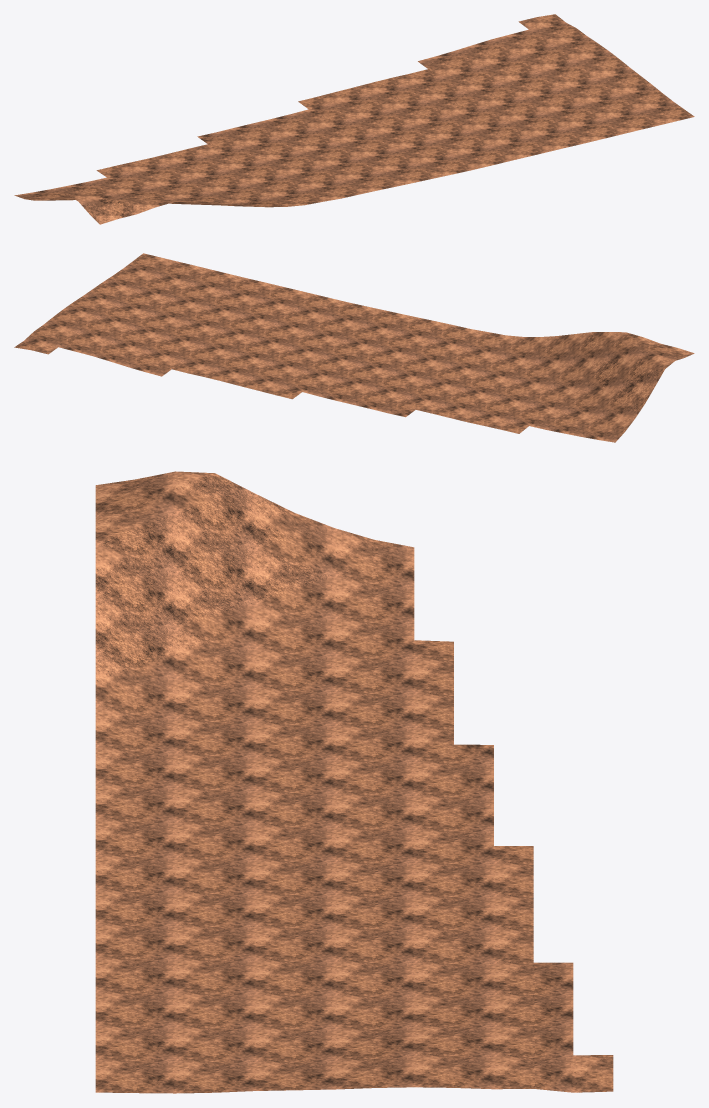
File: terrain_10_03.dae
3 renders of one model, top to bottom at view 1: azimuth 30°, elevation 25°; view 2: azimuth 150°, elevation 25°; view 3: azimuth 270°, elevation 25°, orthographic. The views are drawn at different scales.
Parts seen in each view (by area): view 1: terrain_10_03-node; view 2: terrain_10_03-node; view 3: terrain_10_03-node.
Part boxes in pixels (x1,y1,x2,y2): terrain_10_03-node: [14, 14, 694, 224]; terrain_10_03-node: [14, 253, 694, 442]; terrain_10_03-node: [95, 471, 613, 1093].
Bounding box in the file's own units: 128 × 52 × 9.97.
1 material, 1 textured.
